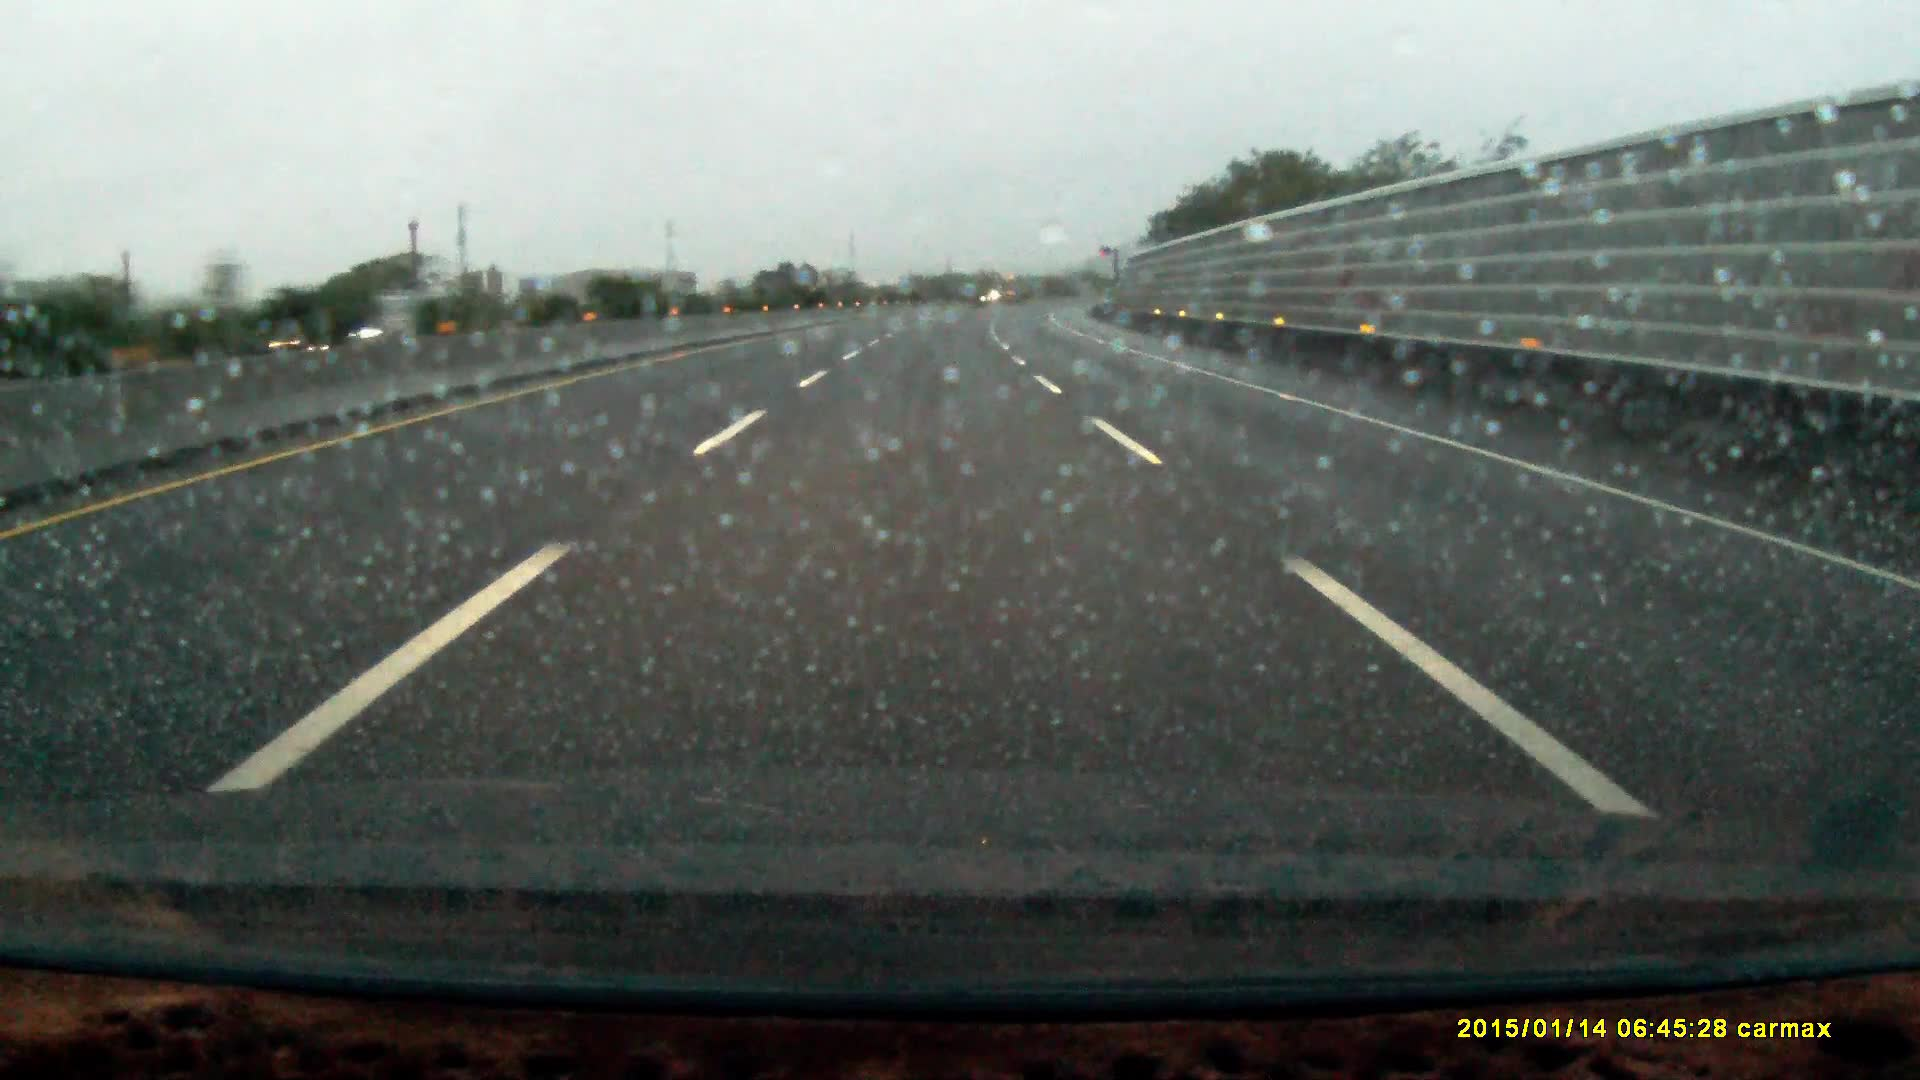vehicle: (276, 309, 381, 349)
